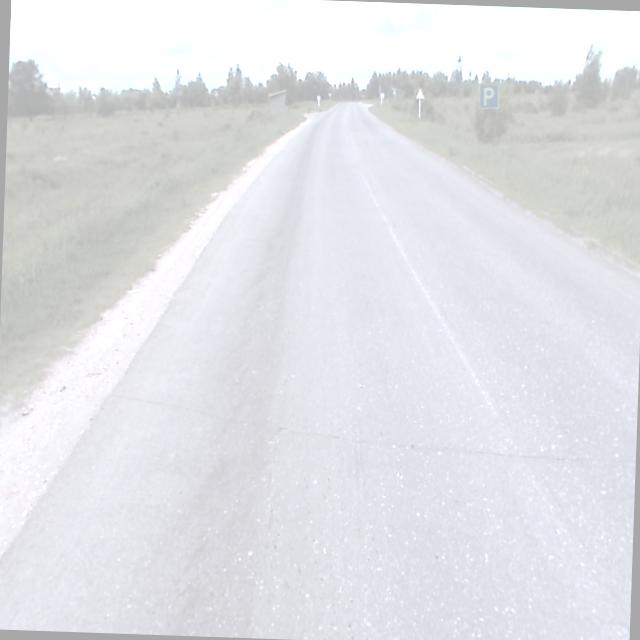road: (0, 101, 640, 640)
